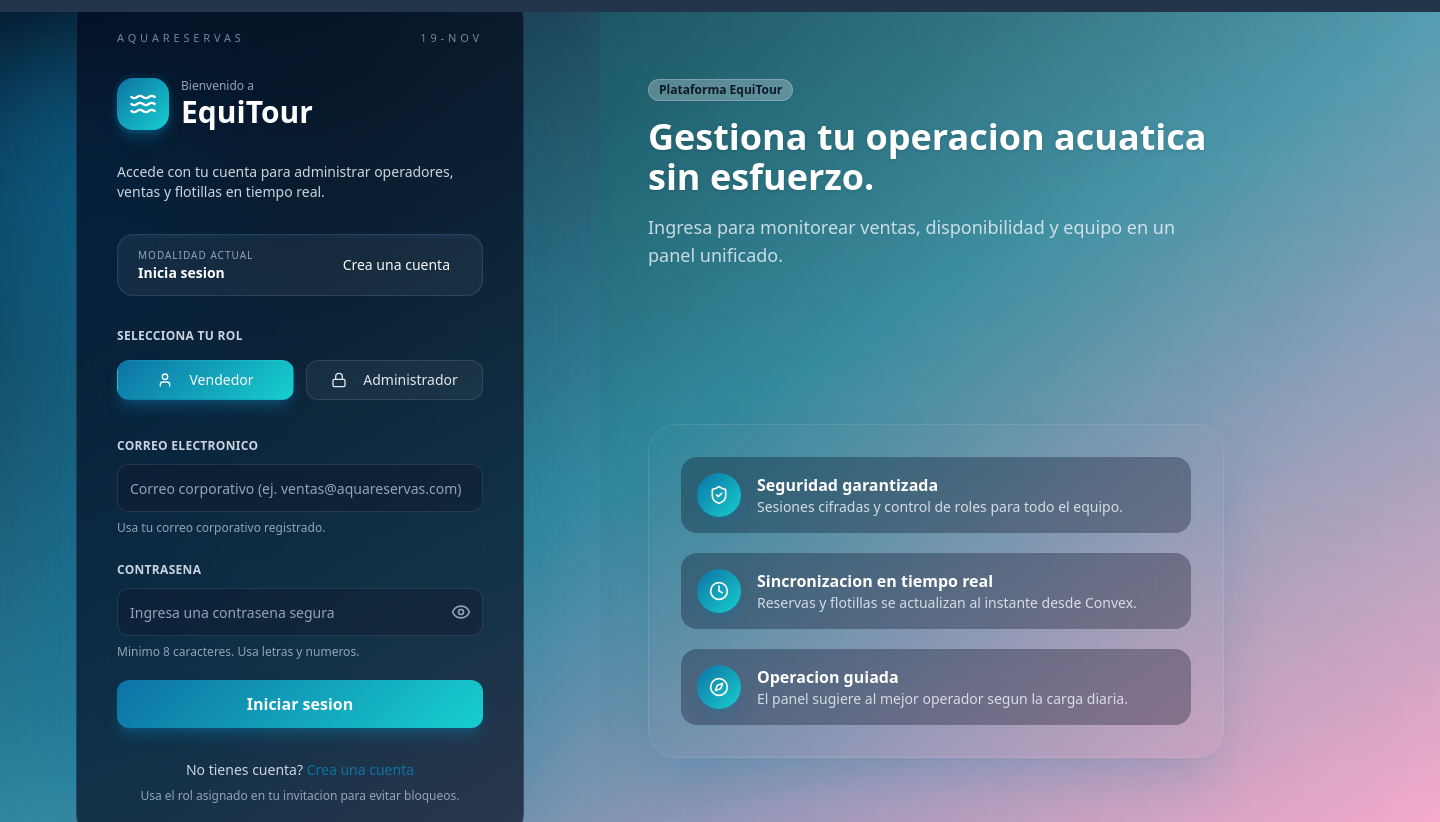
LoginScreen › shows validation feedback when email or password are invalid
Type "invalid" into the field labelled "Correo electronico". click: (300, 488)
box: [117, 464, 483, 512]
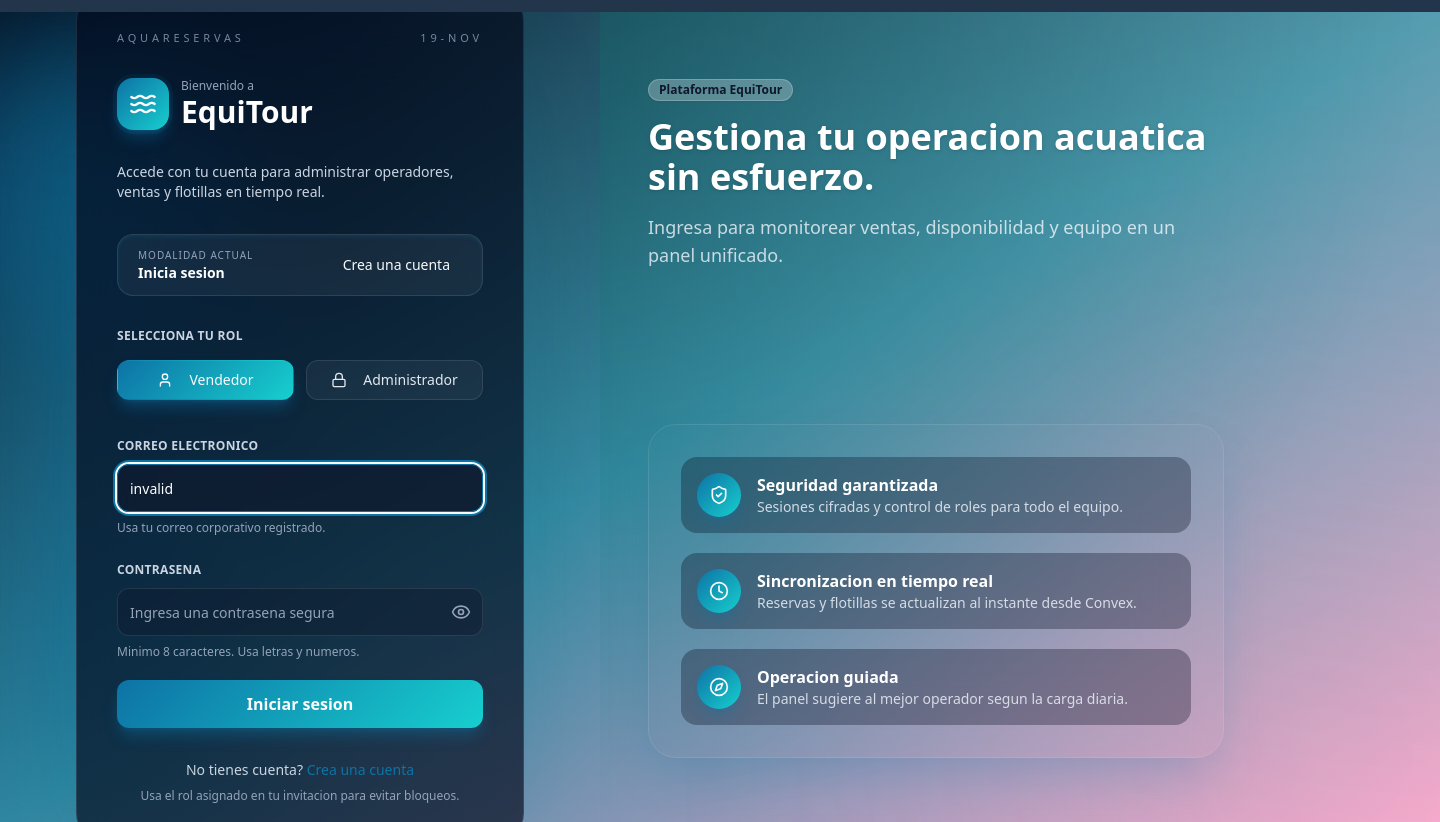
Type "123" into the password field labelled "Contrasena". click: (300, 612)
box: [117, 588, 483, 636]
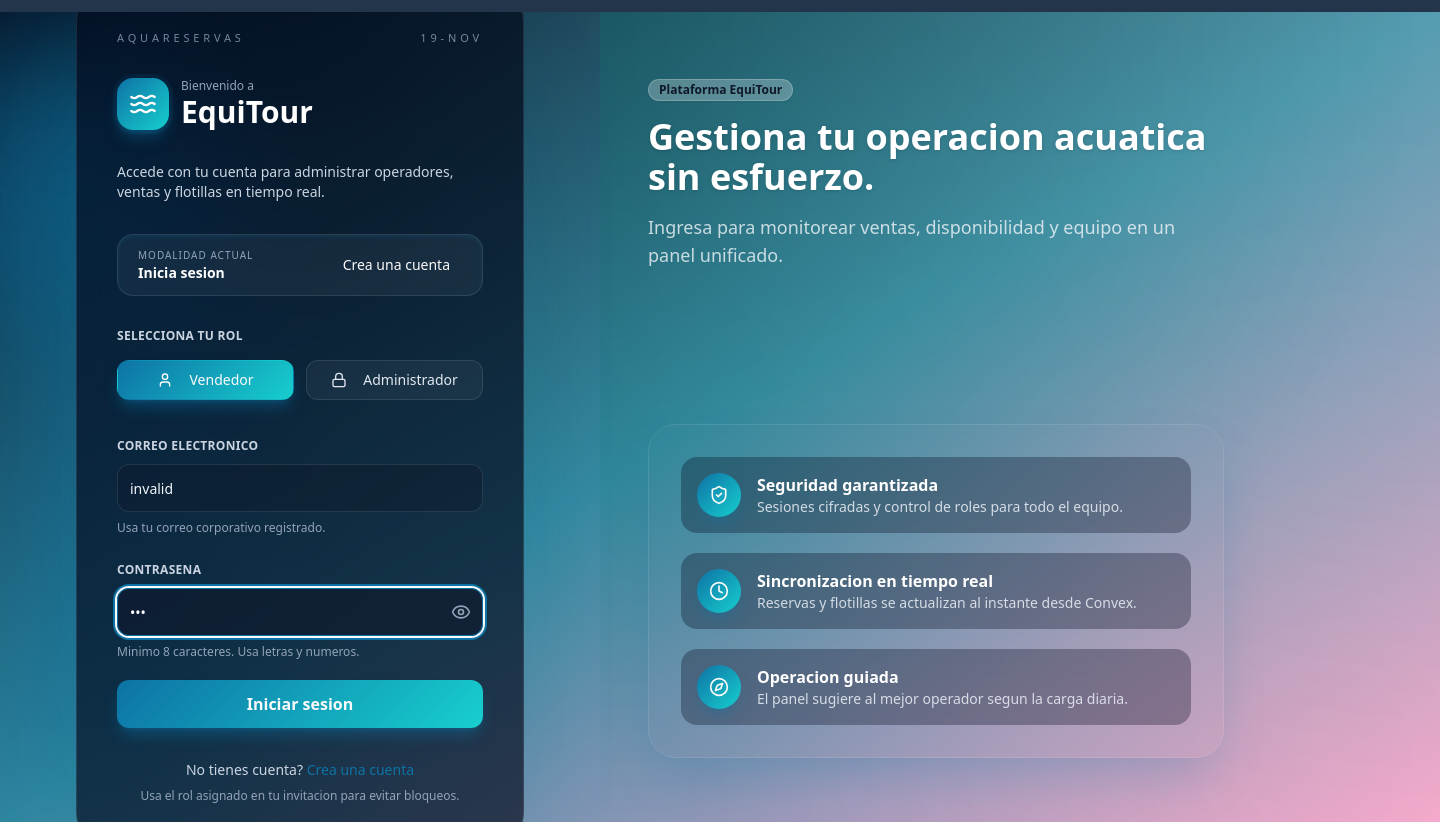
Submit the form labelled "Correo electronico", box [117, 432, 483, 728]
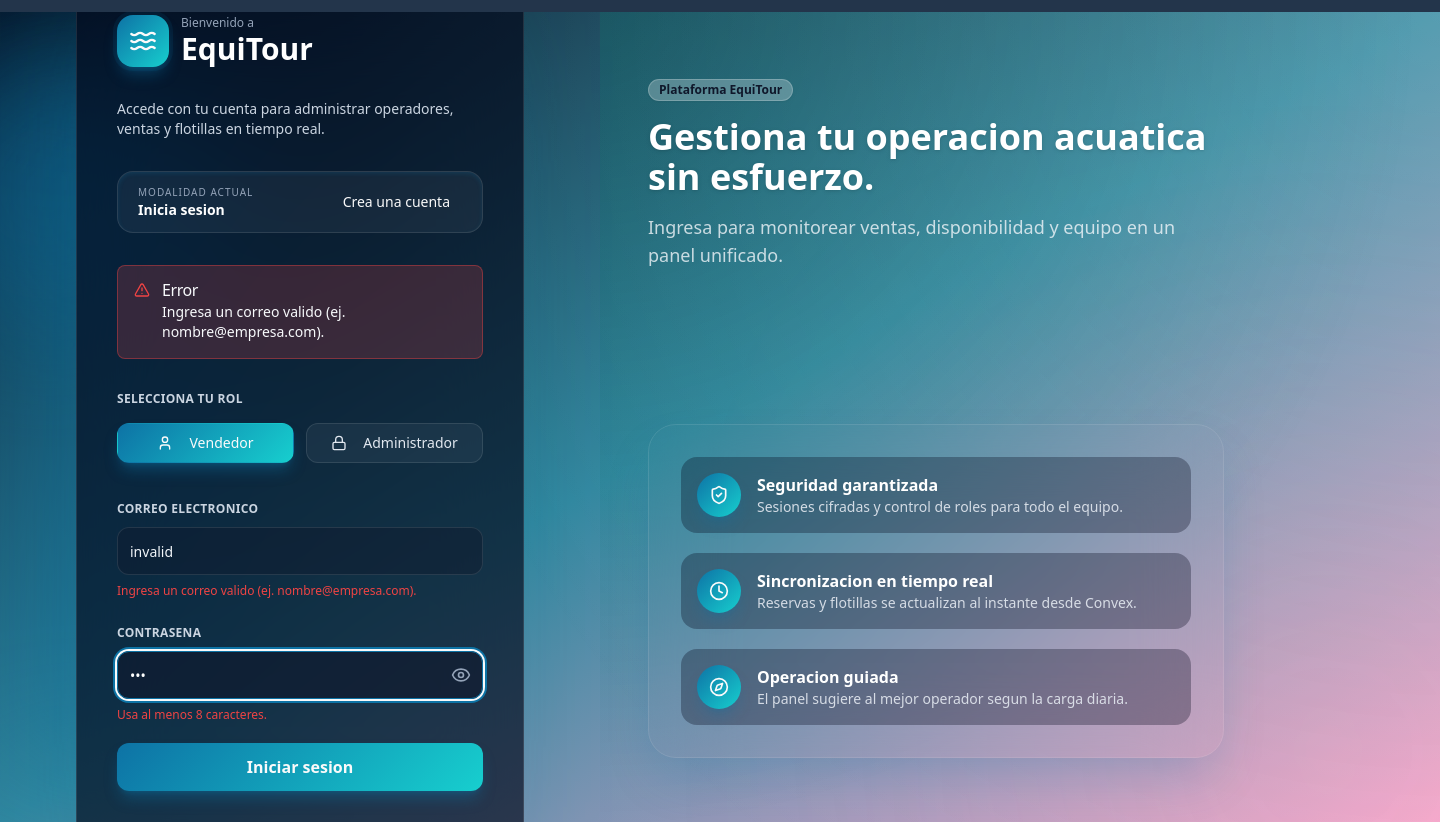
Result: the text "Ingresa un correo valido (ej. nombre@empresa.com)." below "Error" is shown at [162, 302, 345, 341]
Result: the text "Usa al menos 8 caracteres." is shown at [117, 706, 267, 723]
